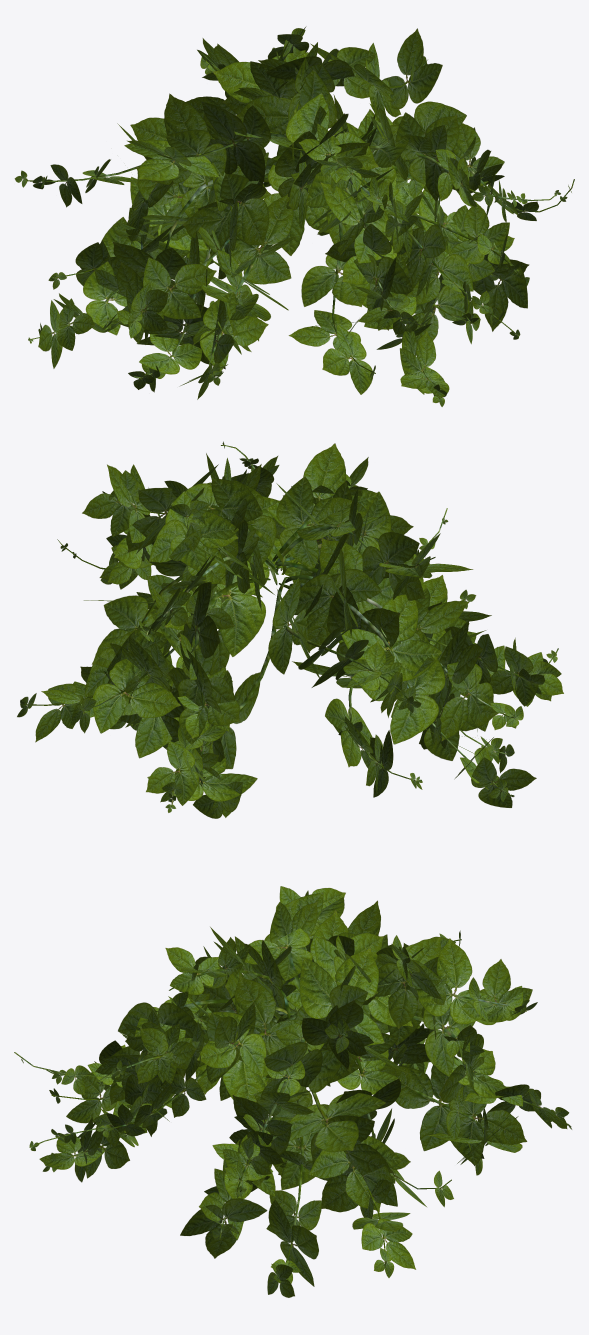
The model's file is ivy.glb.
The picture shows the model from 3 angles, top to bottom: view 1: azimuth 30°, elevation 25°; view 2: azimuth 150°, elevation 25°; view 3: azimuth 270°, elevation 25°; orthographic projection. The views are drawn at different scales.
Visible parts, largest first — view 1: Vine; view 2: Vine; view 3: Vine.
Part boxes in pixels (box(x1,y1,x2,y2)): Vine: box(14, 26, 574, 406); Vine: box(17, 441, 563, 818); Vine: box(14, 886, 572, 1297).
Bounding box in the file's own units: 7.37 × 4.88 × 7.12.
Materials: 1 (1 with a texture image).
